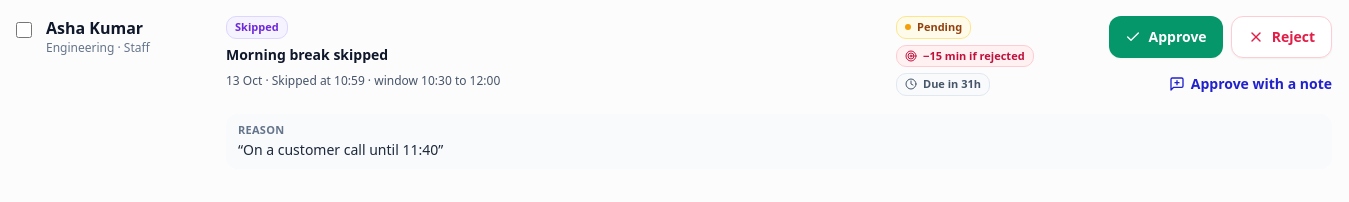
Test: ApprovalCard › approves in one click, showing the decision before the server answers
Click the button with aria-label "Approve Asha Kumar".
click(1166, 37)  # box [1109, 16, 1223, 58]
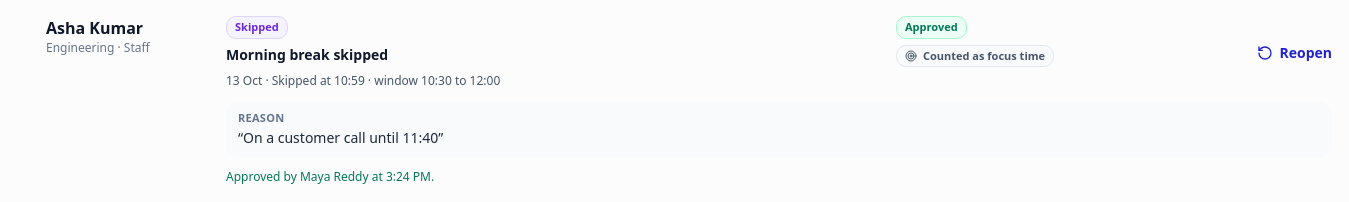
expect the text "Approved by Maya Reddy at 3:24 PM." is shown: met, box [226, 168, 434, 185]
expect the text "Counted as focus time" is shown: met, box [923, 48, 1045, 64]
